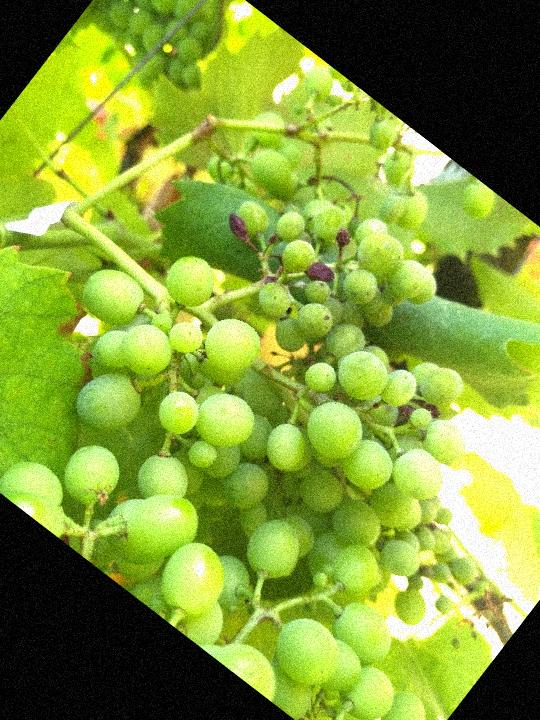grape: (1, 92, 540, 664)
